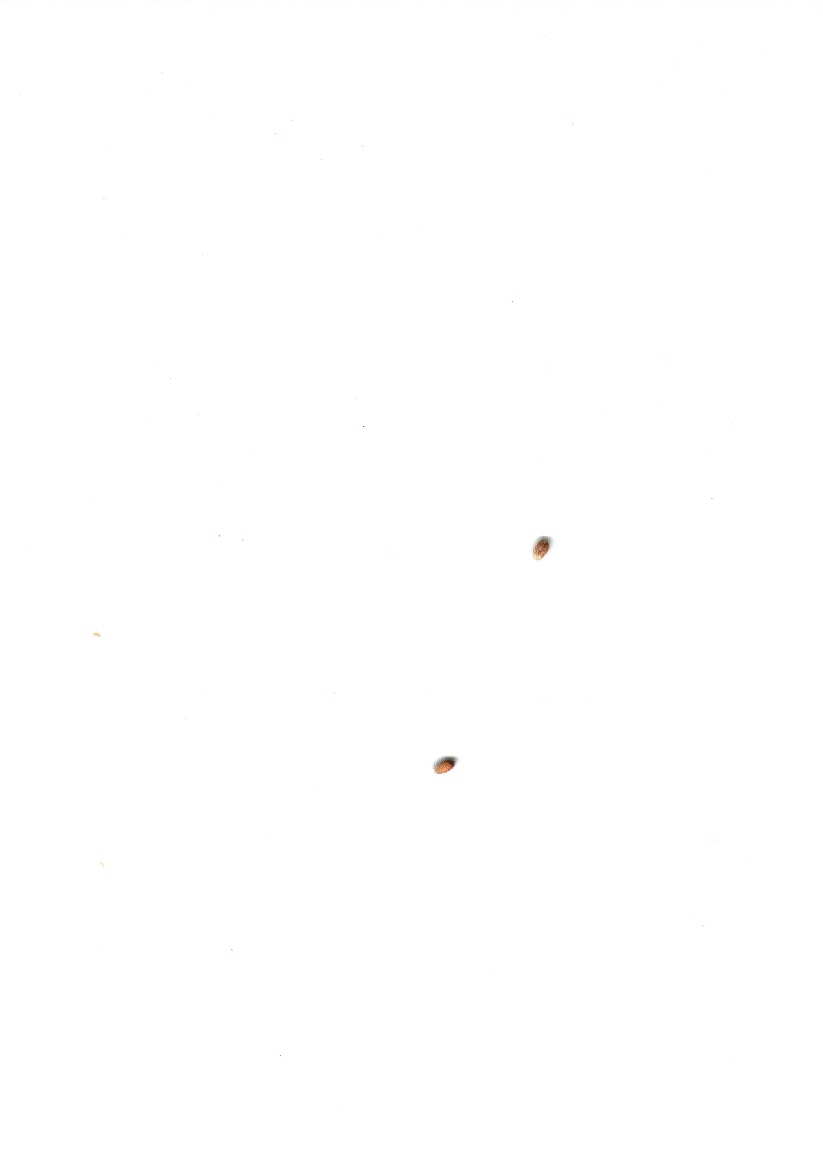grains: (520, 527, 562, 576), (423, 741, 462, 786)
